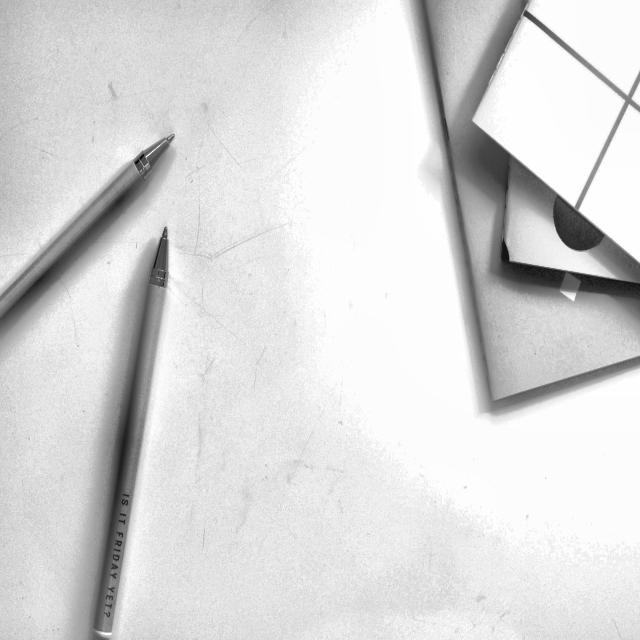Pen: (0, 129, 177, 331), (88, 223, 172, 639)
